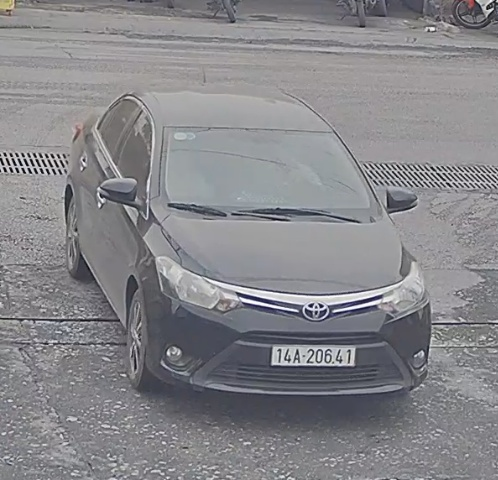vehicle plate: (267, 339, 361, 370)
